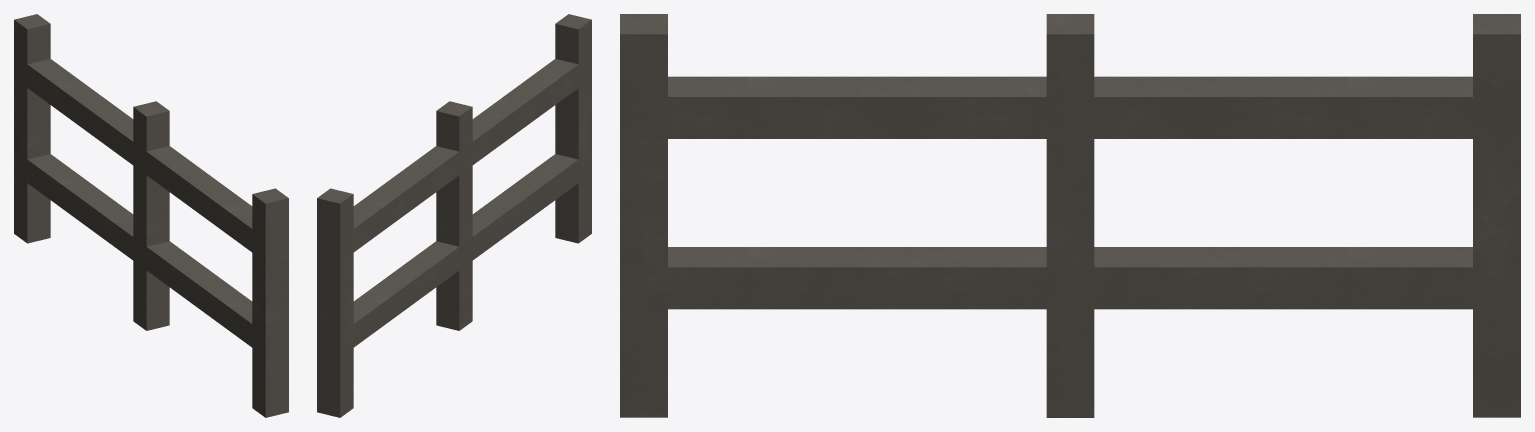
File: Fence_Textured.fbx
The picture shows the model from 3 angles, left to right: view 1: azimuth 30°, elevation 25°; view 2: azimuth 150°, elevation 25°; view 3: azimuth 270°, elevation 25°; orthographic projection. The views are drawn at different scales.
Parts seen in each view (by area): view 1: pCube1; view 2: pCube1; view 3: pCube1.
Boxes of the visible parts, x1,y1,x2,y2 form: pCube1: [14, 14, 288, 417]; pCube1: [317, 14, 591, 417]; pCube1: [620, 14, 1520, 417].
Size of the model in its own units: 0.00253 by 0.0224 by 0.0476.
Materials: 1 (1 with a texture image).
